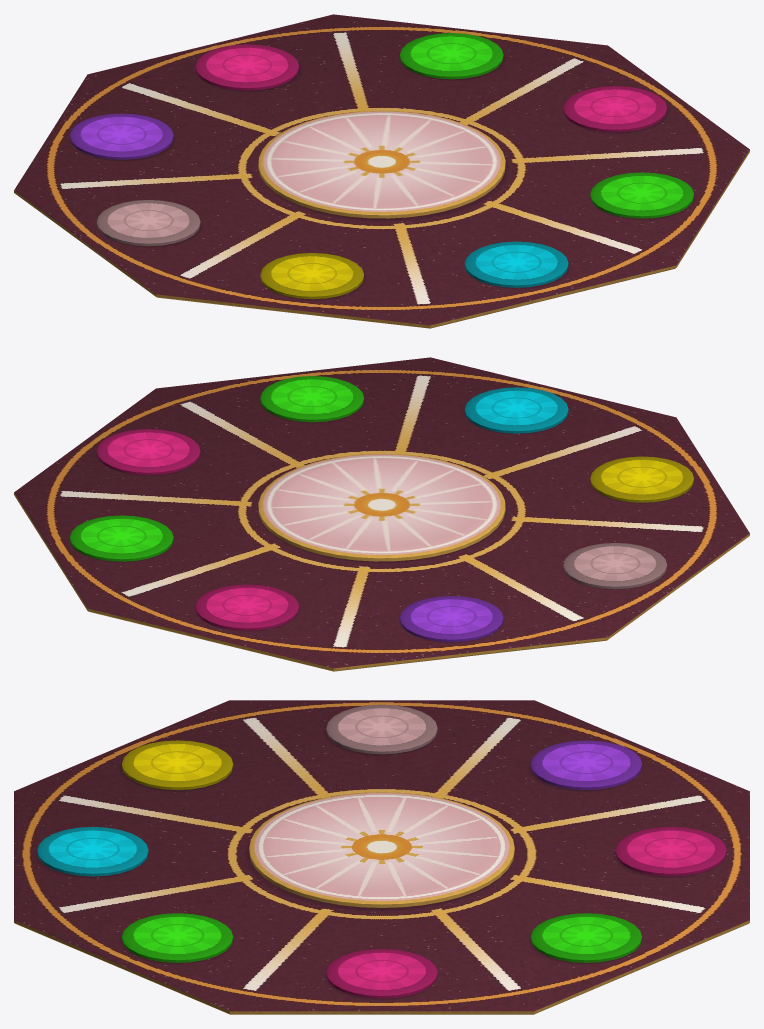
Rendered from disco_dance_floor.glb.
3 views of the same model, one above another, from view 1: azimuth 30°, elevation 25°; view 2: azimuth 150°, elevation 25°; view 3: azimuth 270°, elevation 25° (orthographic). The views are drawn at different scales.
Parts seen in each view (by area): view 1: FloorBase, BlushCenter, Tile2, Tile6, Tile1, Tile5, Tile4, Tile0, Tile3, Tile7; view 2: FloorBase, BlushCenter, Tile6, Tile2, Tile3, Tile7, Tile4, Tile0, Tile1, Tile5; view 3: FloorBase, BlushCenter, Tile1, Tile7, Tile4, Tile2, Tile6, Tile0, Tile3, Tile5.
Boxes of the visible parts, box(x1,y1,x2,y2) form: FloorBase: box(14, 14, 749, 328); BlushCenter: box(258, 111, 505, 218); Tile2: box(464, 241, 568, 287); Tile6: box(195, 44, 299, 90); Tile1: box(590, 172, 693, 218); Tile5: box(70, 113, 173, 159); Tile4: box(96, 200, 200, 246); Tile0: box(563, 86, 667, 132); Tile3: box(260, 253, 363, 299); Tile7: box(400, 33, 503, 79); FloorBase: box(14, 357, 749, 671); BlushCenter: box(258, 454, 505, 561); Tile6: box(195, 584, 299, 630); Tile2: box(464, 387, 568, 433); Tile3: box(590, 456, 693, 502); Tile7: box(70, 515, 173, 561); Tile4: box(563, 543, 667, 589); Tile0: box(96, 429, 200, 475); Tile1: box(260, 376, 363, 422); Tile5: box(400, 596, 503, 642); FloorBase: box(14, 700, 749, 1014); BlushCenter: box(249, 792, 514, 907); Tile1: box(122, 913, 233, 962); Tile7: box(530, 913, 641, 962); Tile4: box(326, 704, 437, 754); Tile2: box(37, 827, 148, 876); Tile6: box(615, 827, 726, 876); Tile0: box(326, 949, 437, 998); Tile3: box(122, 740, 233, 790); Tile5: box(530, 740, 641, 790).
Size of the model in its own units: 3.44 by 0.071 by 3.44.
Materials: 7 (7 with a texture image).
